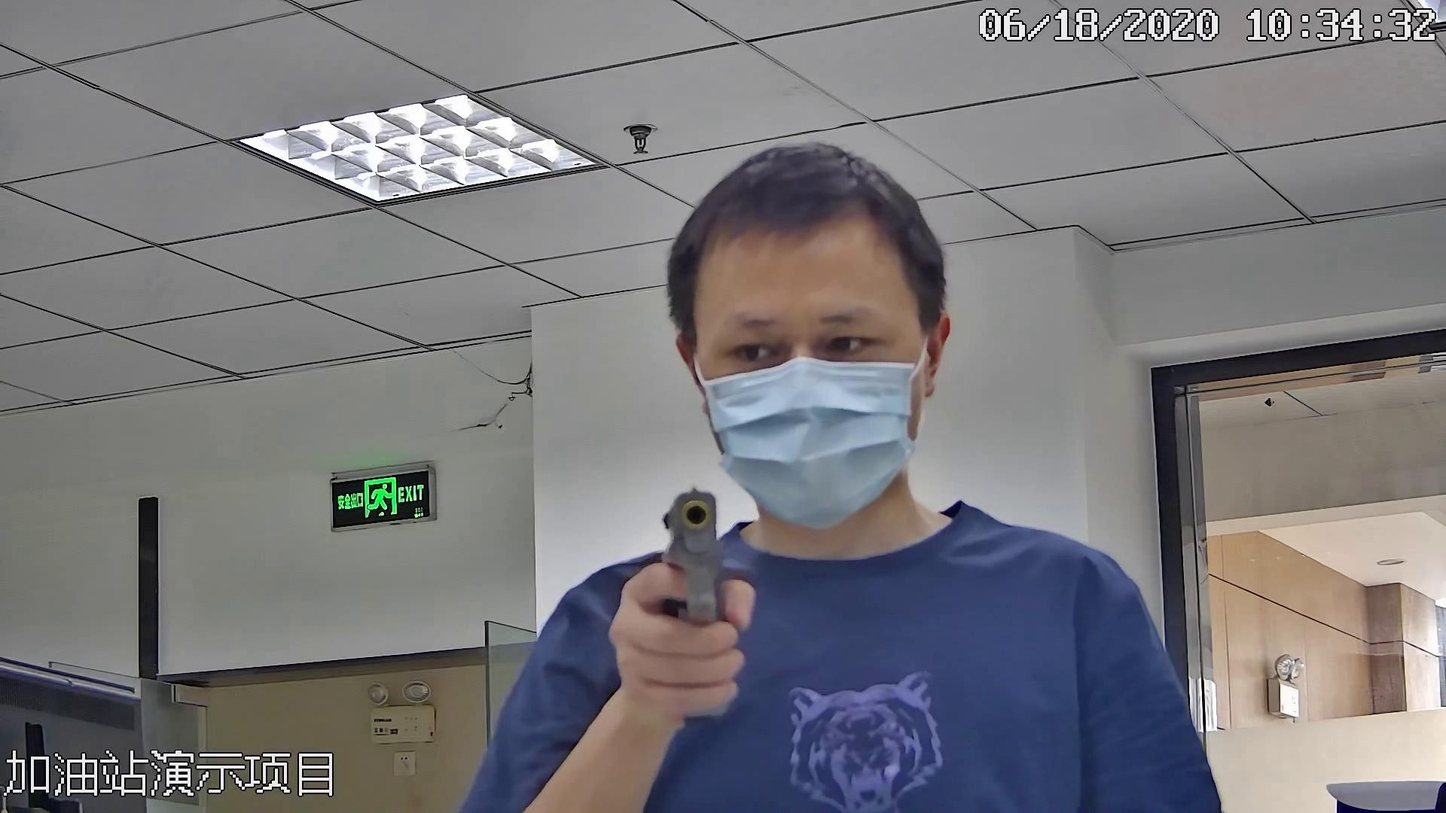gun: (613, 482, 764, 718)
